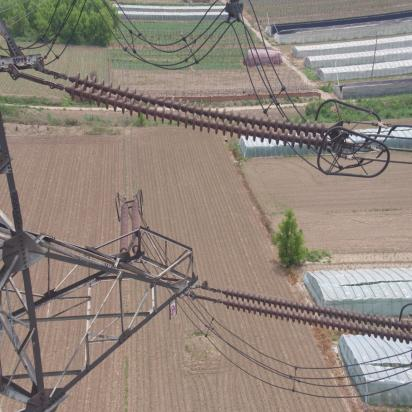insulator: (49, 69, 337, 155), (213, 285, 412, 346)
